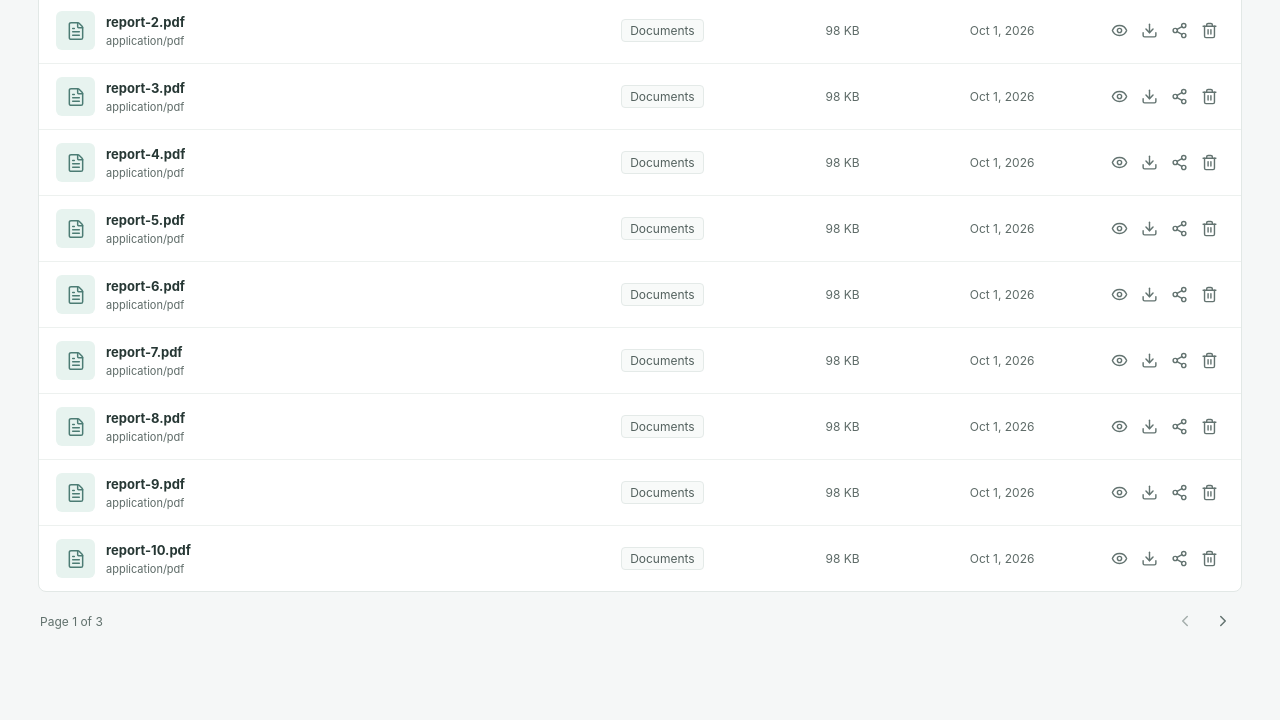
Scenario: file library states › pages through the backend's pages
This screenshot has width=1280, height=720.
(page scrolled)
Expected: the text "Page 1 of 3" is shown, [40, 614, 103, 629]
Click the button named "Next page" at (1223, 621), box [1206, 604, 1240, 638]
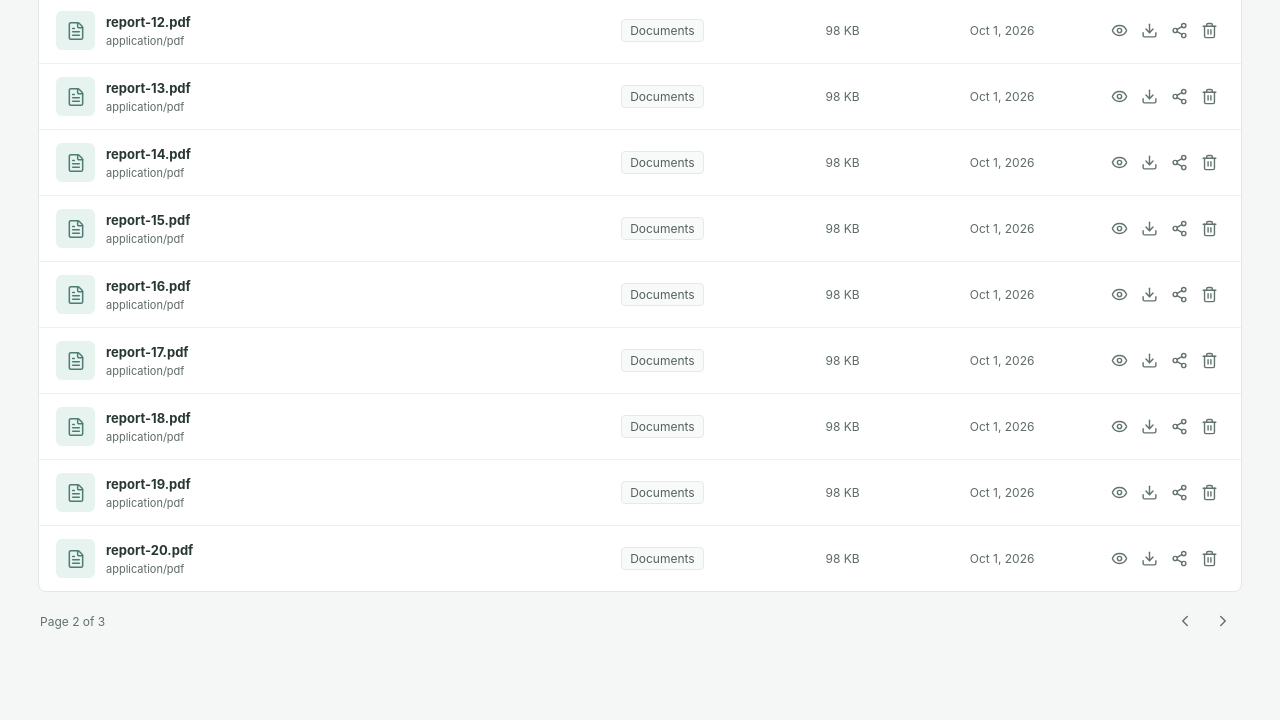
Expected: the text "Page 2 of 3" is shown, [40, 614, 105, 629]
Click the button named "Next page" at (1223, 621), box [1206, 604, 1240, 638]
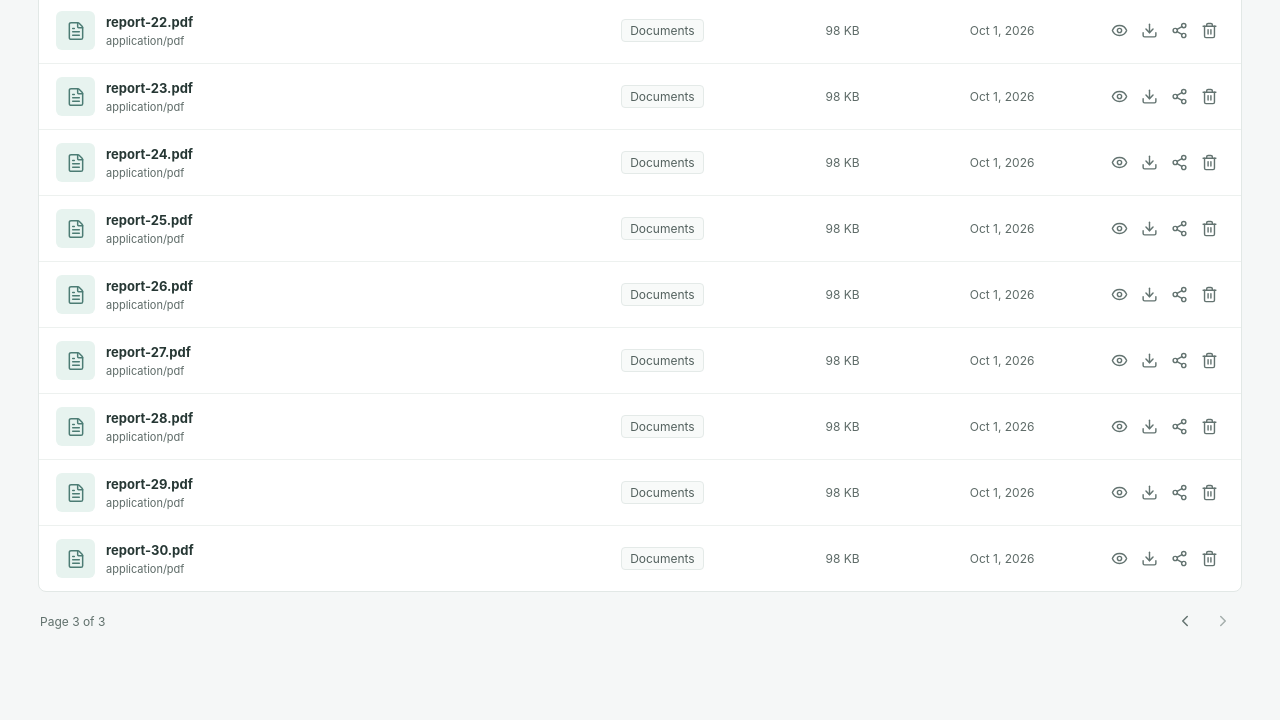
Expected: the link "report-30.pdf" is shown, [106, 542, 194, 558]
Expected: the text "Page 3 of 3" is shown, [40, 614, 105, 629]
